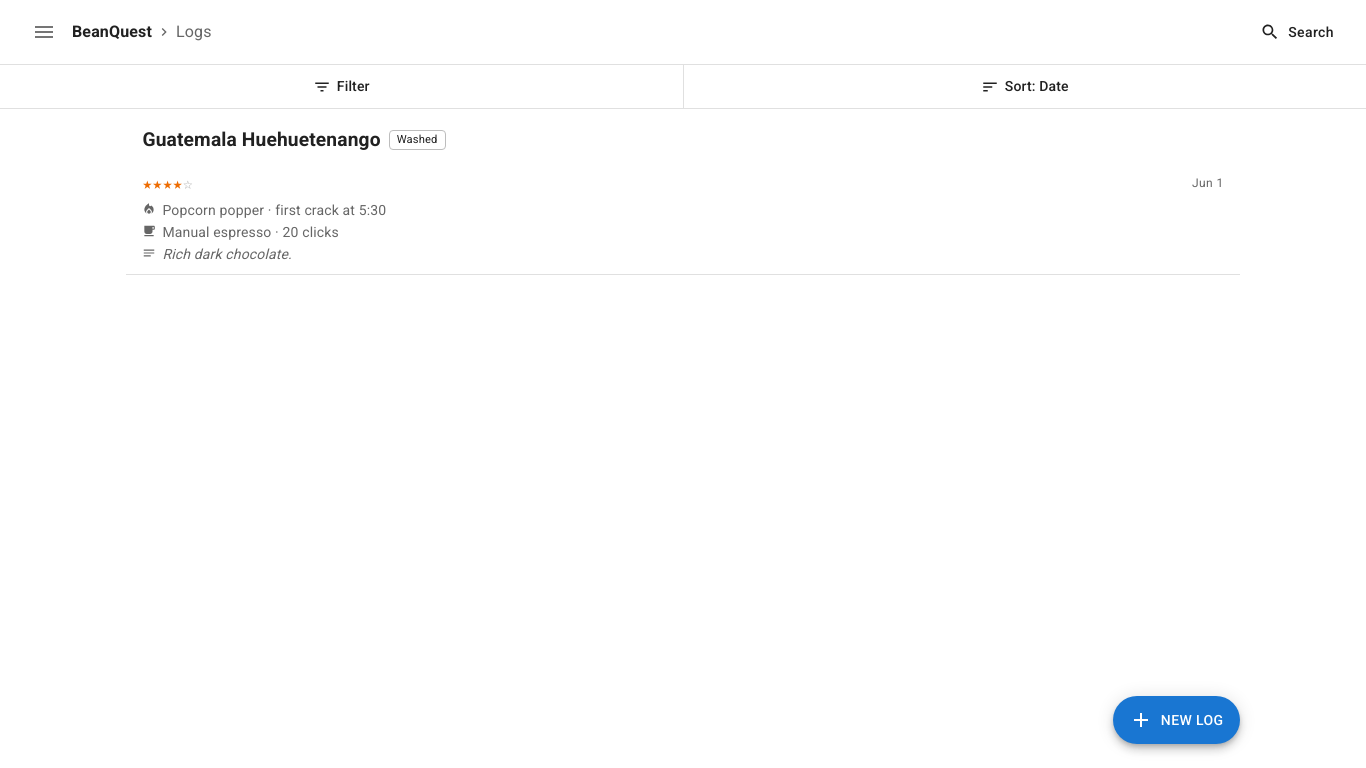
Test: LogsPage › keeps the form open and shows an error if creating a log fails
Expected: the heading "Guatemala Huehuetenango" is shown, [142,125,381,156]
Step 1. Click the button labelled "New log" → point(1176, 720), box [1113,696,1240,744]
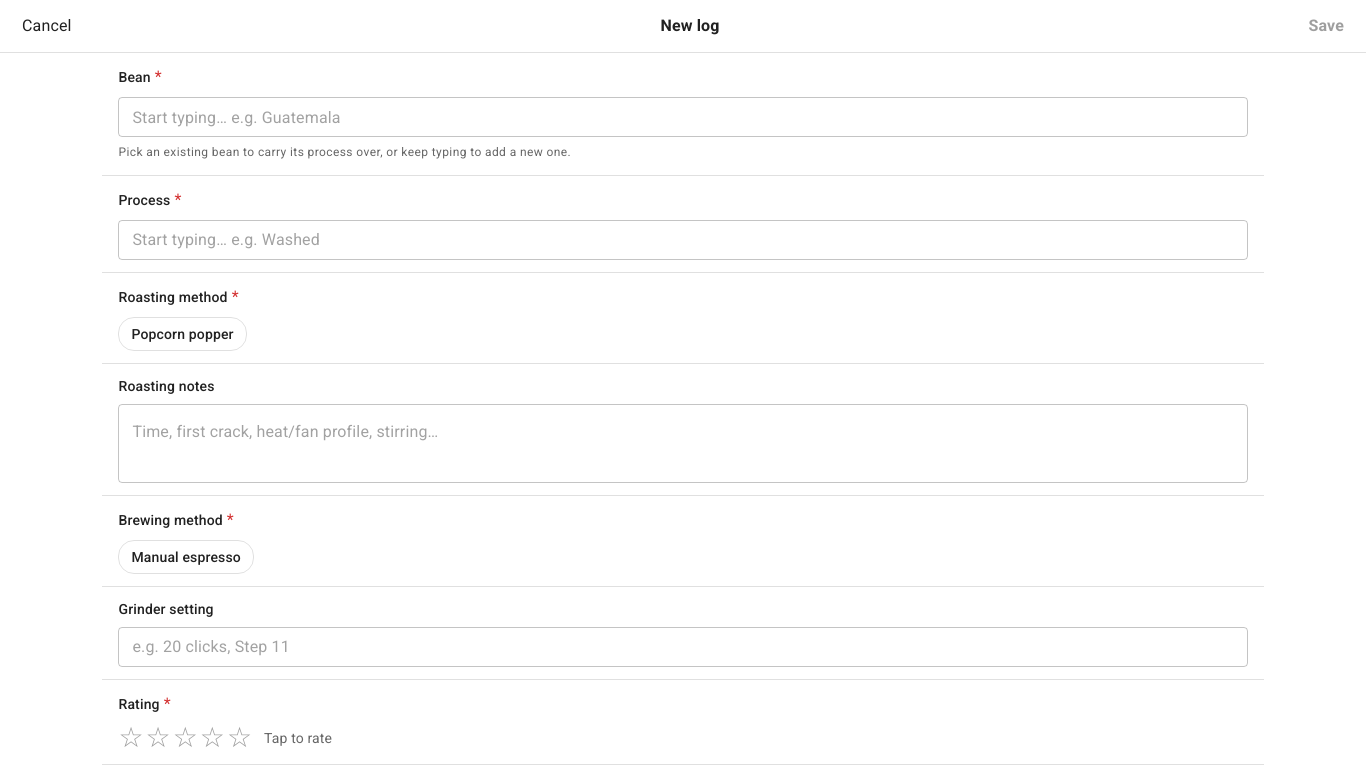
Step 2. Type "Kenya Nyeri AA" into the dropdown with placeholder "Start typing… e.g. Guatemala" → point(682, 117), box [124,103,1239,131]
Step 3. Type "Washed" into the dropdown with placeholder "Start typing… e.g. Washed" → point(682, 240), box [124,226,1239,254]
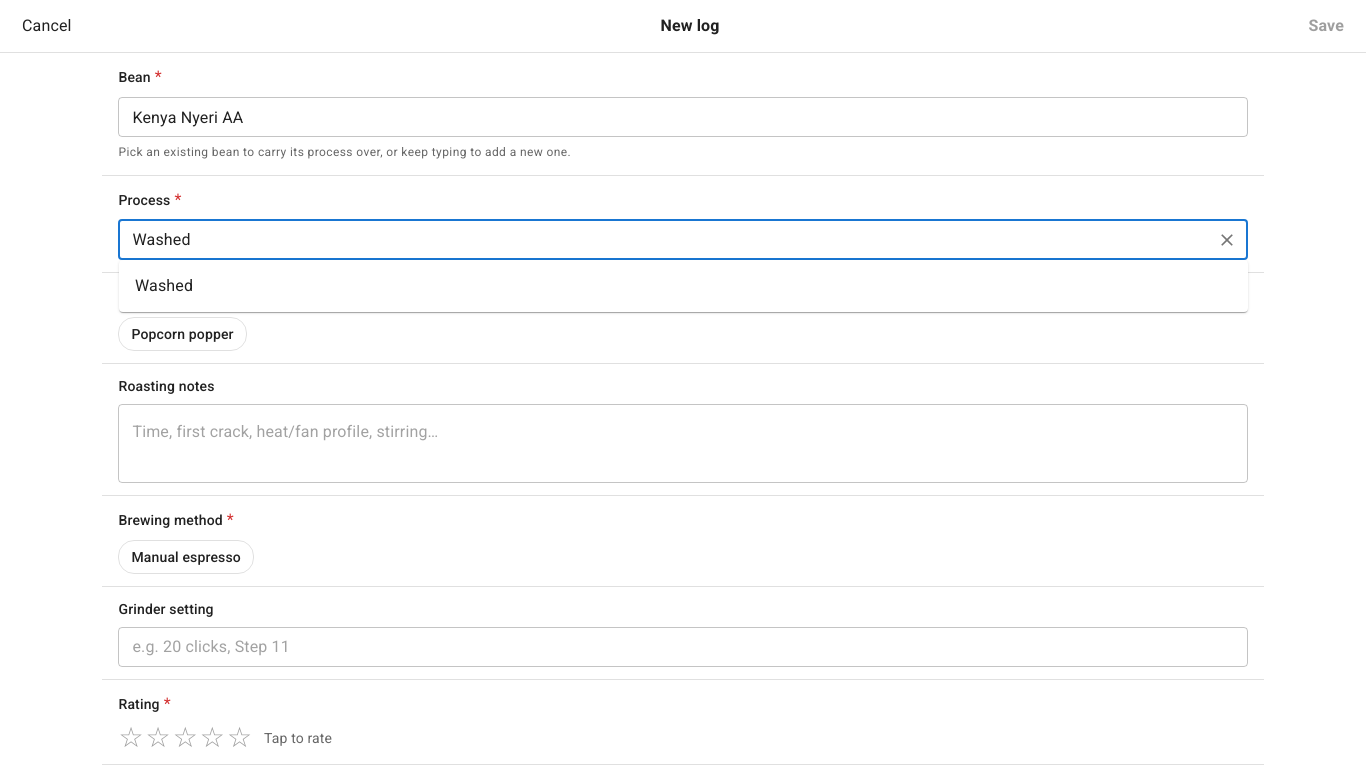
Step 4. Click the button "Popcorn popper" → point(183, 334), box [118,317,247,351]
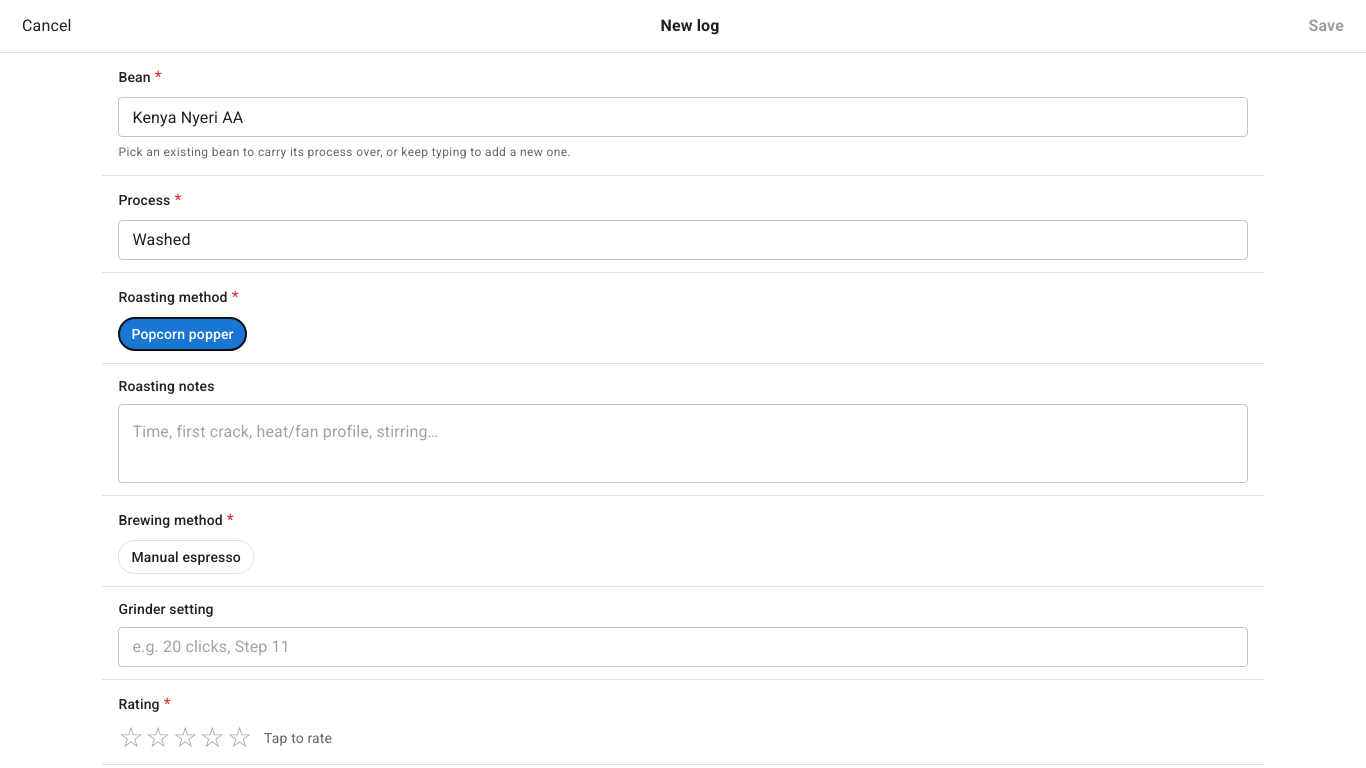
Step 5. Click the button "Manual espresso" → point(186, 557), box [118,540,254,574]
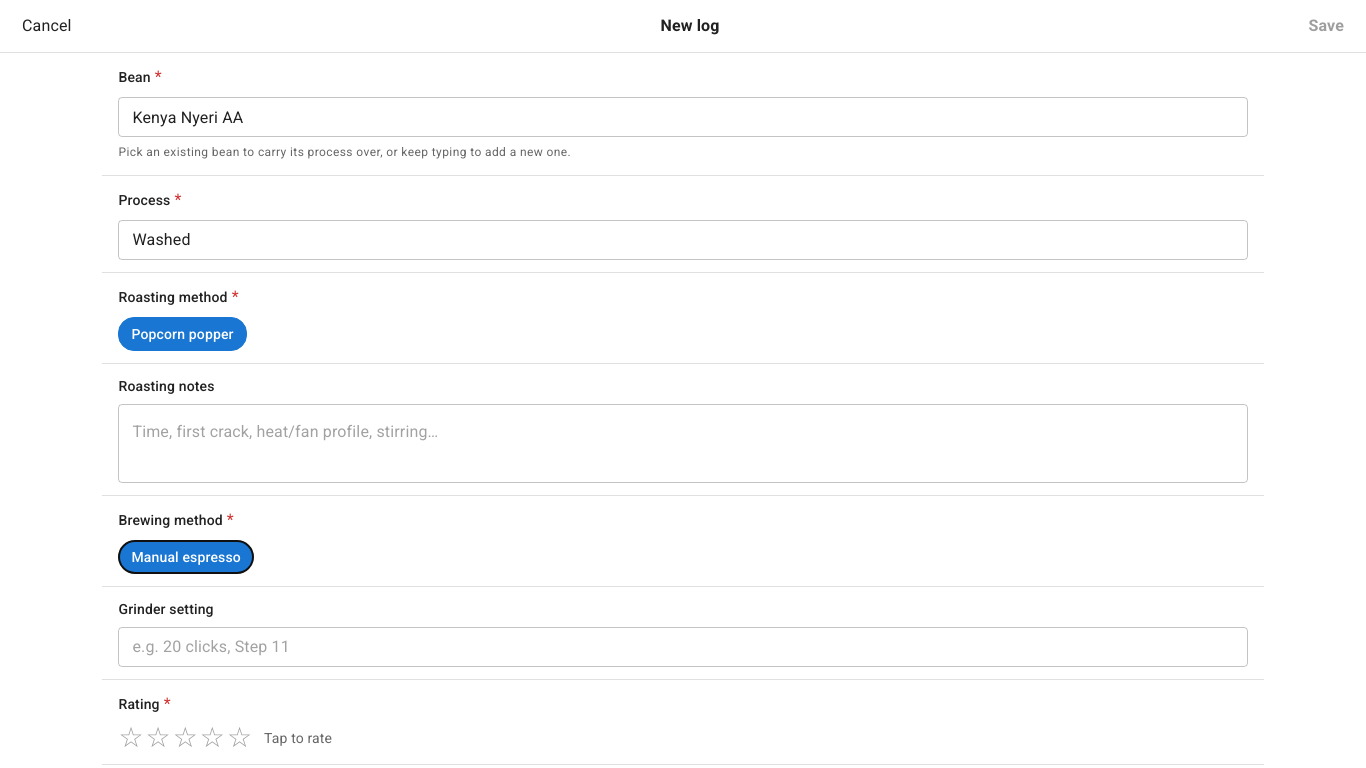
Step 6. Click the button named "Rate 5" → point(239, 738), box [227,724,252,752]
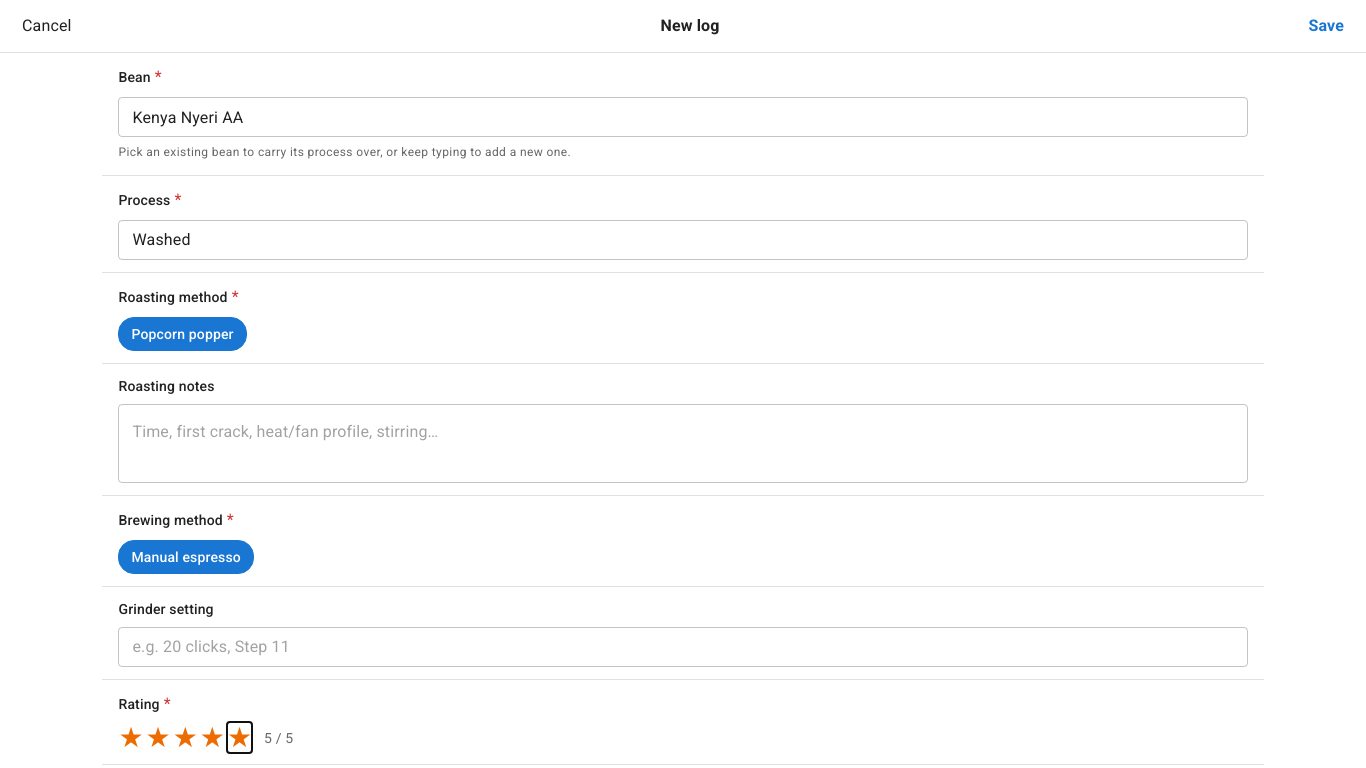
Step 7. Click the button "Save" → point(1326, 26), box [1302,13,1350,39]
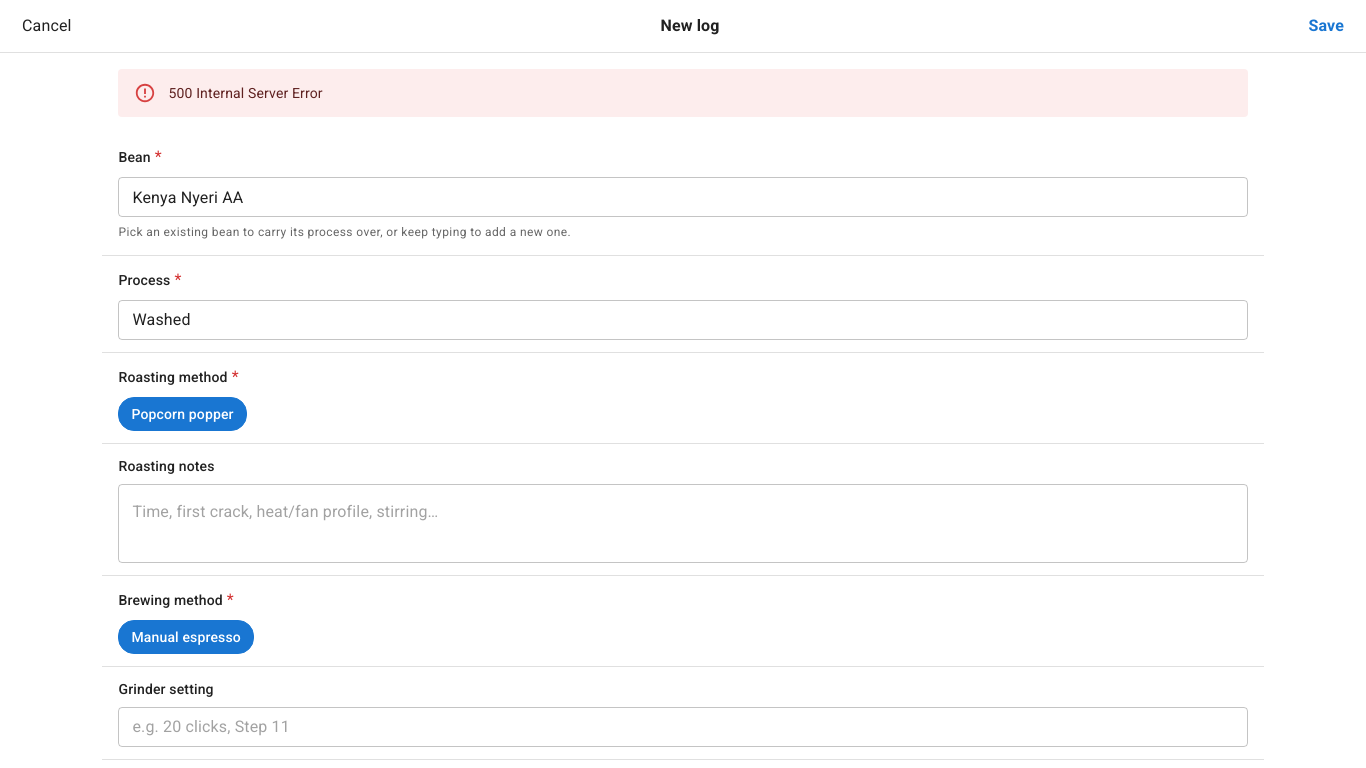
Expected: the button "Save" is enabled, [1302,13,1350,39]
Expected: the text "500 Internal Server Error" is shown, [168,85,323,101]
